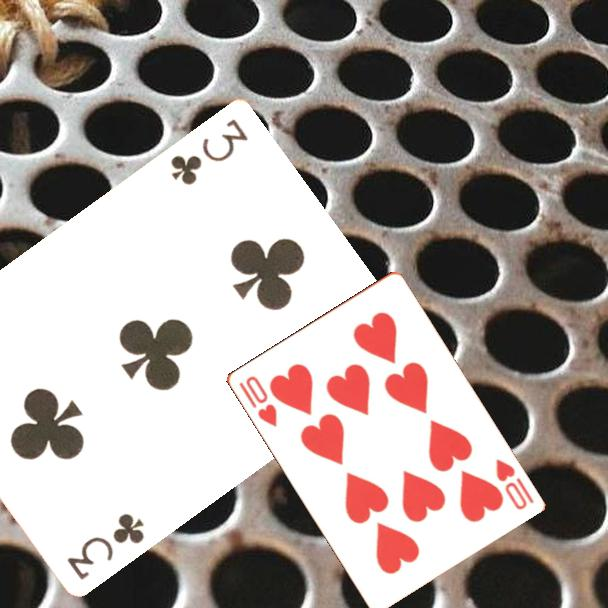c03: (63, 508, 148, 583), (166, 114, 252, 188)
h10: (235, 372, 280, 430), (492, 455, 537, 513)
